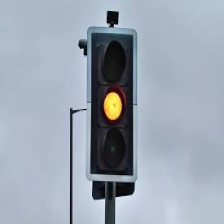semaforo: (86, 25, 137, 181)
